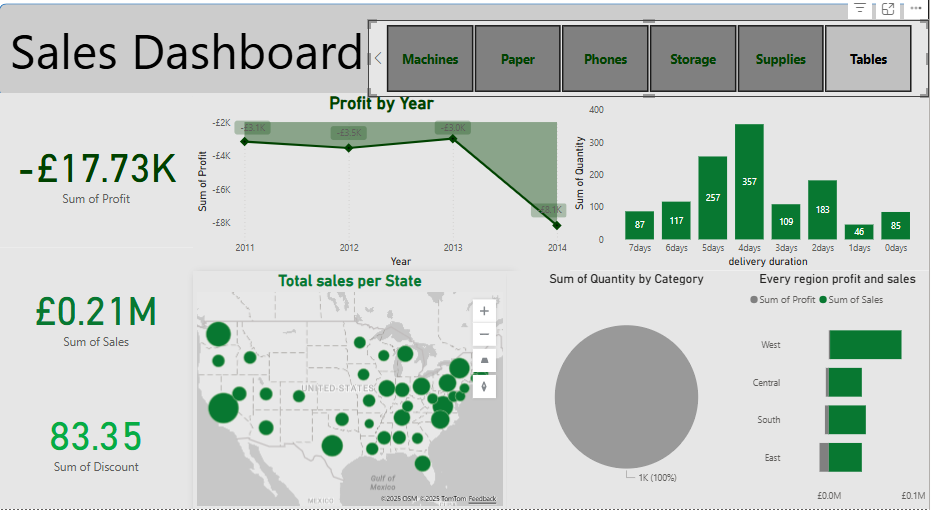

The page's visual inventory and layout, read from the dashboard file:
{"tool":"powerbi","page":{"name":"Page 1","canvas":[1280,720],"ordinal":0},"visuals":[{"type":"shape","title":"    ","box":[0,0,1280,152.9],"z":0},{"type":"card","fields":{"Values":["Sum(Data.Profit)"]},"box":[0,147.3,267,213.3],"z":1000},{"type":"card","fields":{"Values":["Sum(Data.Discount)"]},"box":[0,527.1,267,192.7],"z":2000},{"type":"card","fields":{"Values":["Sum(Data.Sales)"]},"box":[0,360.6,267,181.7],"z":3000},{"type":"areaChart","title":"Profit by Year","fields":{"Category":["Data.Year"],"Y":["Sum(Data.Profit)"]},"box":[267,147.3,518.9,245],"z":4000},{"type":"azureMap","title":"Total sales per State","fields":{"Size":["Sum(Data.Sales)"],"Category":["Data.State"]},"box":[267,392.3,432.2,327.6],"z":5000},{"type":"pieChart","fields":{"Category":["Data.Category"],"Y":["Sum(Data.Quantity)"]},"box":[699.2,392.3,328.9,327.6],"z":6000},{"type":"slicer","fields":{"Values":["Data.Sub-Category"]},"box":[507.9,46.8,772.1,106],"z":7000},{"type":"clusteredColumnChart","fields":{"Category":["Data.delivery duration"],"Y":["Sum(Data.Quantity)"]},"box":[786,153,494,239],"z":8000},{"type":"barChart","title":"Every region profit and sales ","fields":{"Category":["Data.Region"],"Y":["Sum(Data.Profit)","Sum(Data.Sales)"]},"box":[1028,392,252,328],"z":9000}]}

Visuals, with their boxes on the page's 1280x720 design canvas (x1, y1, x2, y2). These are canvas units, not pixel positions in the 931x510 screenshot, which may show the page scaled, cropped or inside an application window:
"    " shape: bbox=(0, 0, 1280, 153)
card - Sum(Data.Profit): bbox=(0, 147, 267, 361)
card - Sum(Data.Discount): bbox=(0, 527, 267, 720)
card - Sum(Data.Sales): bbox=(0, 361, 267, 542)
"Profit by Year" areaChart: bbox=(267, 147, 786, 392)
"Total sales per State" azureMap: bbox=(267, 392, 699, 720)
pieChart - Data.Category x Sum(Data.Quantity): bbox=(699, 392, 1028, 720)
slicer - Data.Sub-Category: bbox=(508, 47, 1280, 153)
clusteredColumnChart - Data.delivery duration x Sum(Data.Quantity): bbox=(786, 153, 1280, 392)
"Every region profit and sales " barChart: bbox=(1028, 392, 1280, 720)
